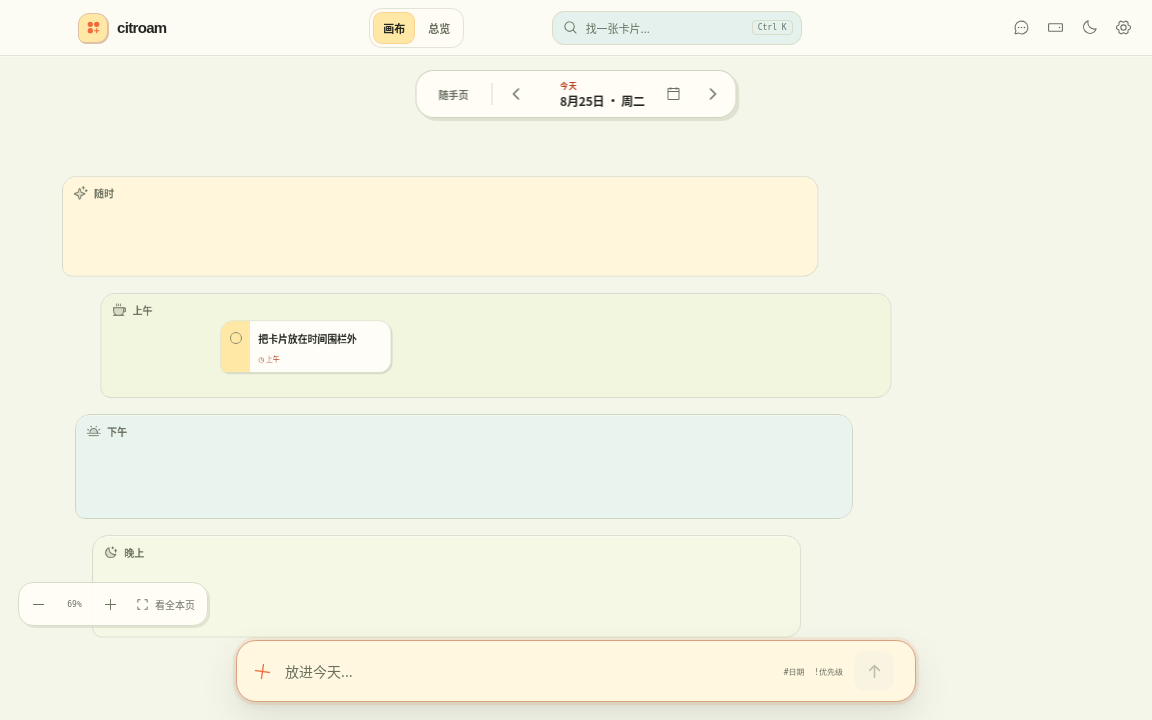
Test case: date page canvas › commits and closes the old card detail when manually browsing another page
Click the button named "打开卡片：把卡片放在时间围栏外" at (320, 347), box [250,321,390,372]
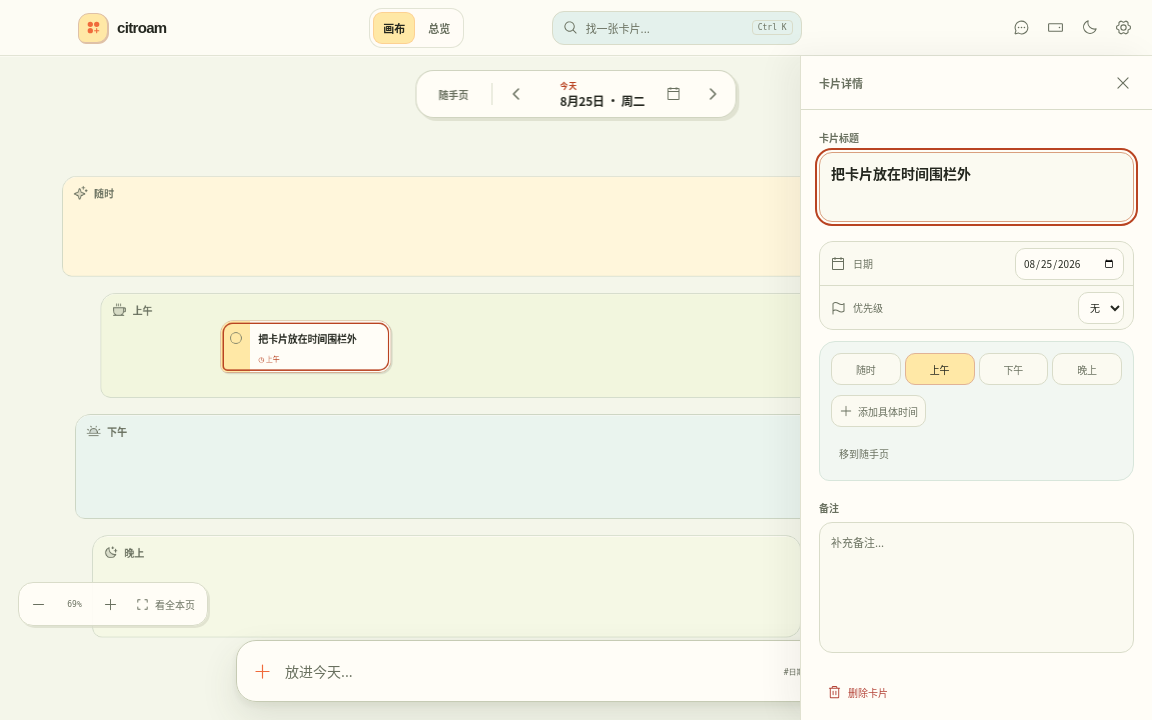
Replace the text in the text box labelled "卡片标题" with "翻页前写完的标题" at (976, 187), box [819,152,1134,222]
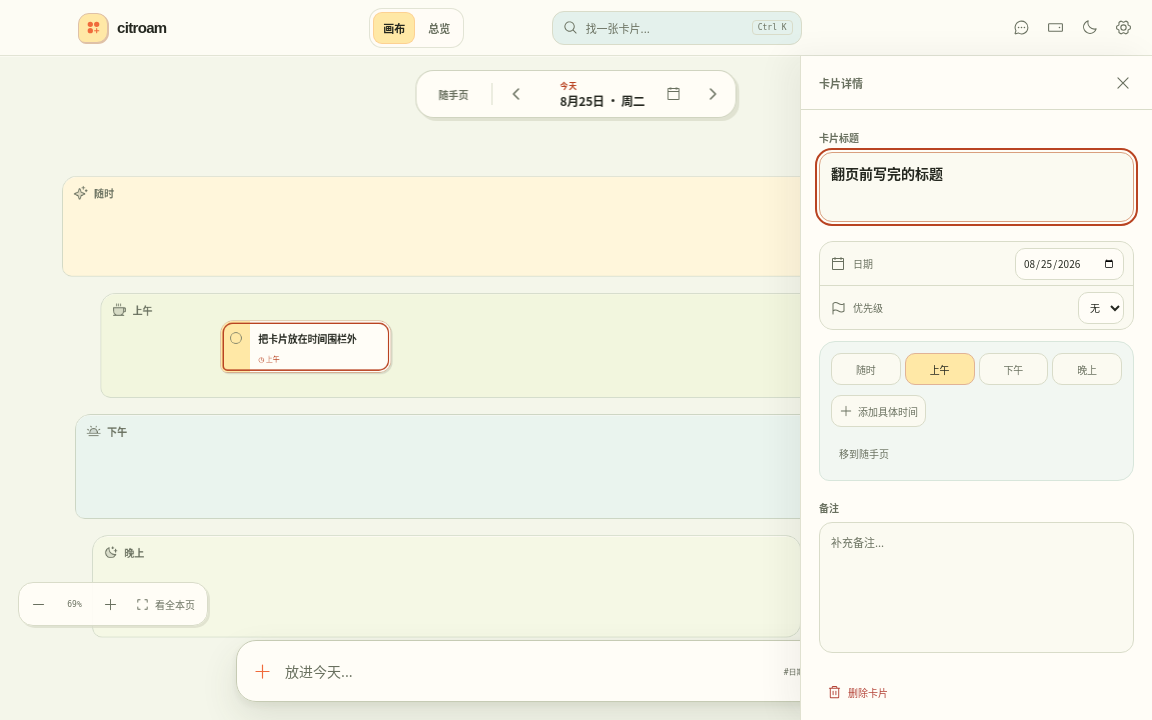
Click the button named "后一天" at (712, 94), box [694,76,730,112]
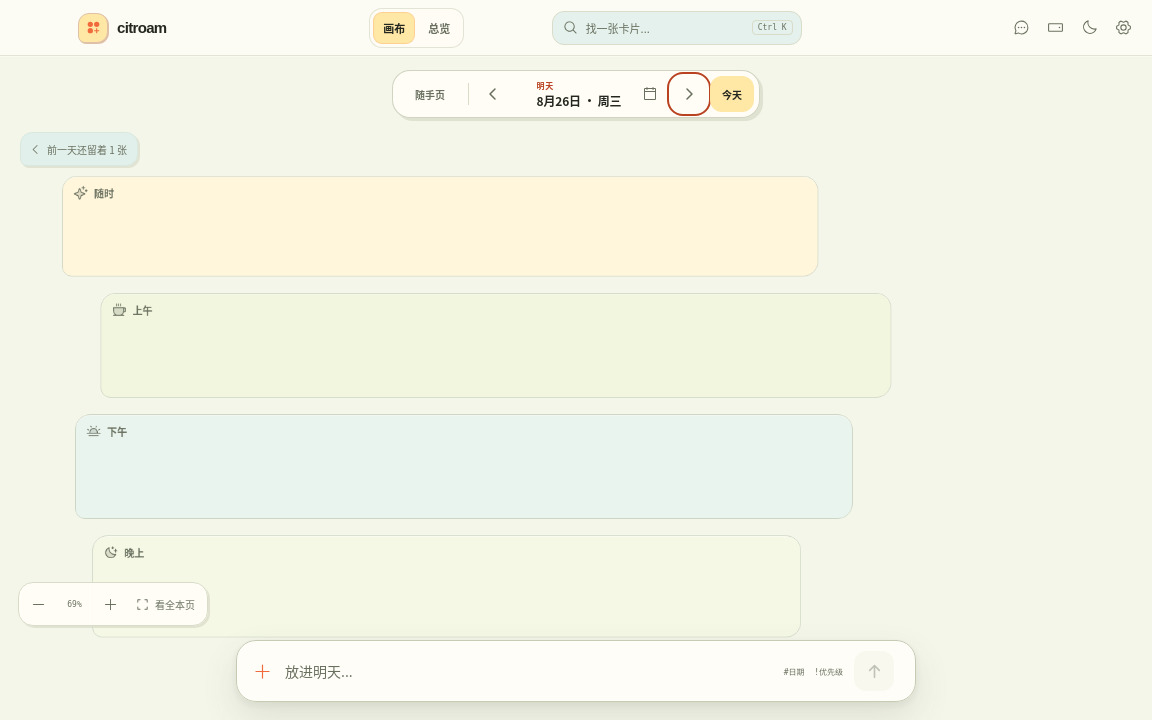
Expected: the element named "明天的画布" is shown, [50,106,904,670]
Expected: the text "卡片详情" is gone
